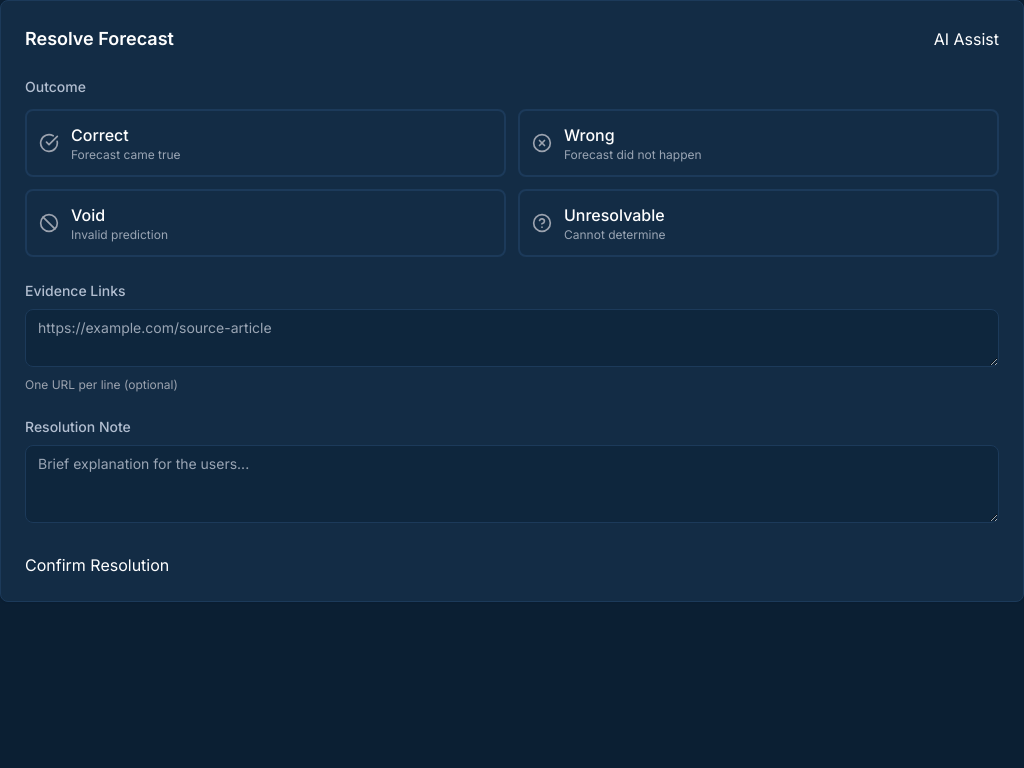
Test: ResolutionForm › pin-acknowledgment gate › shows the extreme-confidence wording (not the settled wording) when unsettled but extreme
The width and height of the screenshot is (1024, 768).
What coordinates should you click on to do the following:
click the text "Wrong"
I would click on:
 (589, 135)
Its box is [564,125,615,145].
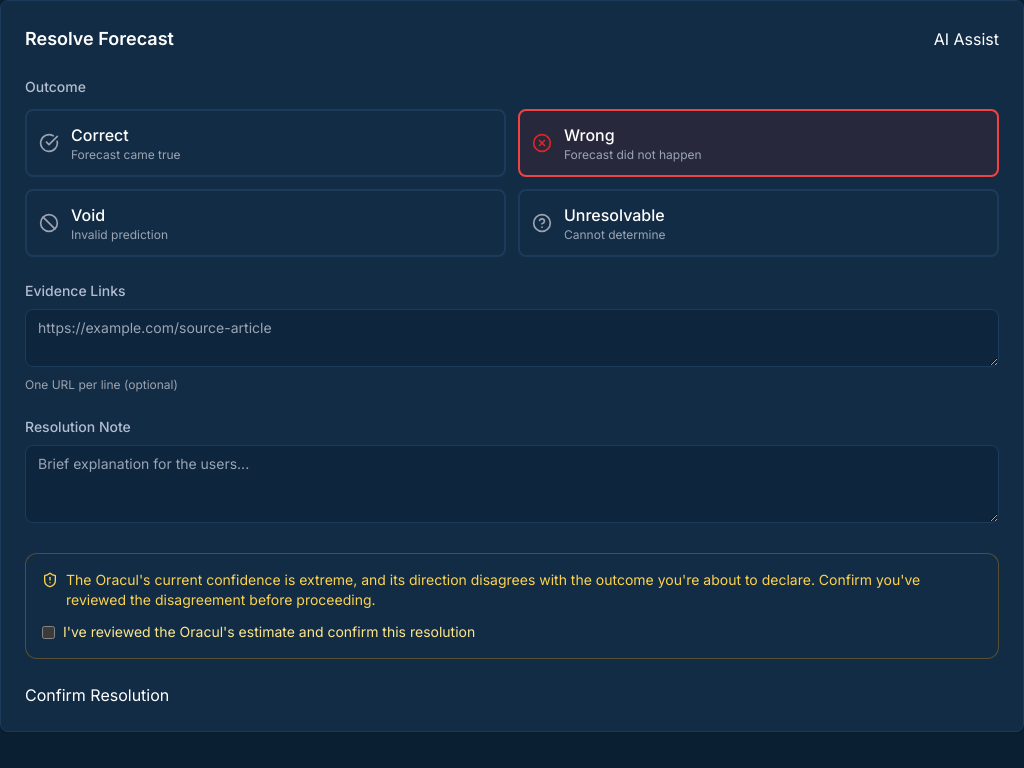
Check: the text "current confidence is extreme" is shown, box [66,571,815,588]
